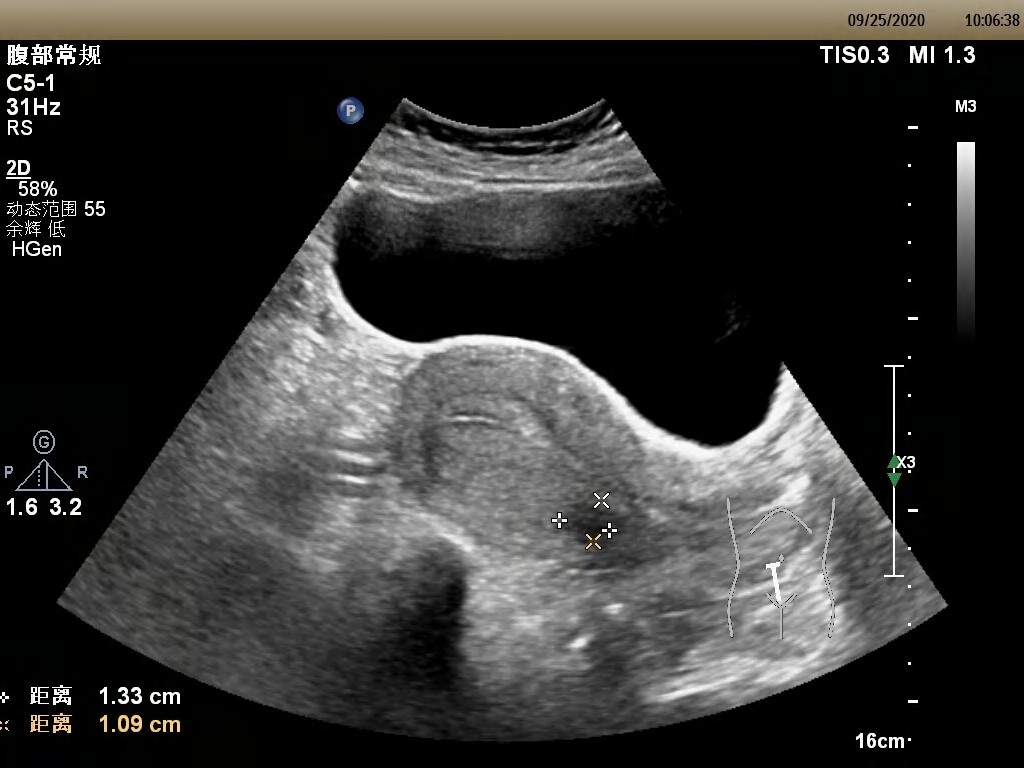肌瘤: (559, 500, 610, 540)
